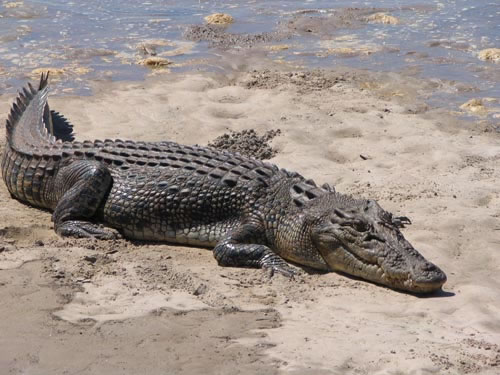Crocodile: (1, 74, 450, 299)
